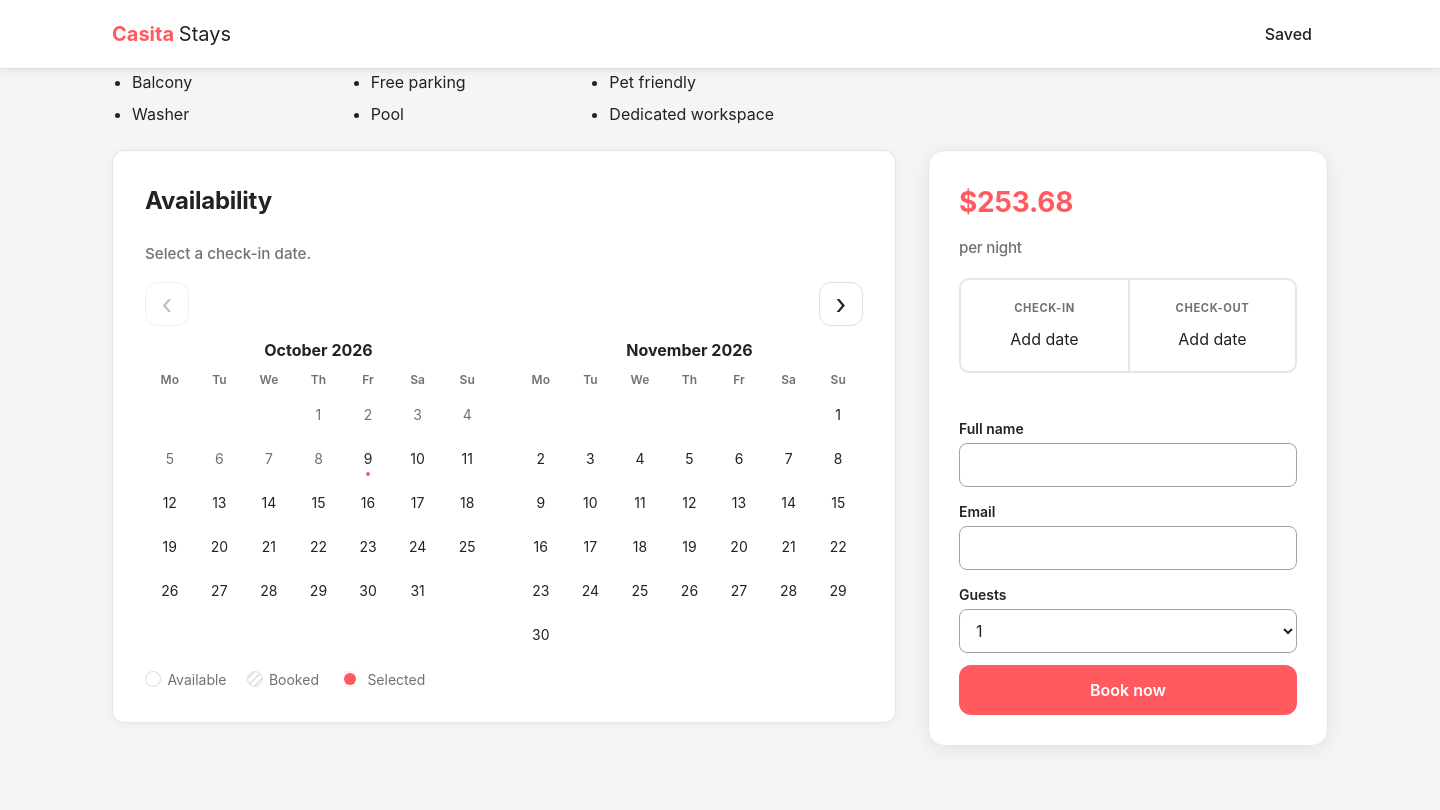
Test case: booking flow › announces form errors in a summary
This screenshot has width=1440, height=810.
(page scrolled)
Expected: the table named "October 2026" is shown, x1=145 y1=370 x2=492 y2=613
Click the button "Book now": [1128, 690] box x1=959 y1=665 x2=1297 y2=715
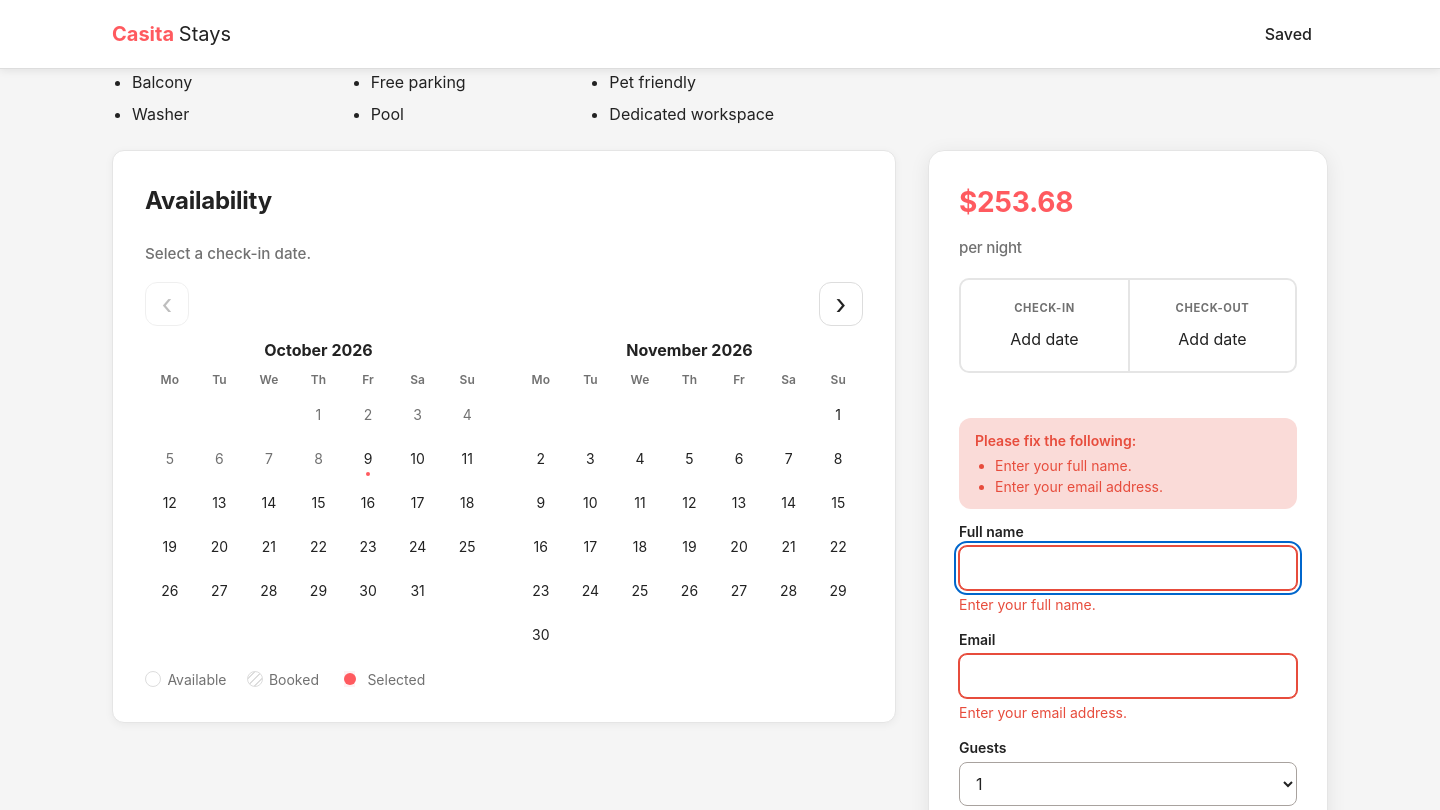
Now the list item "Enter your full name." is shown, box x1=995 y1=457 x2=1132 y2=474
Now the list item "Enter your email address." is shown, box x1=995 y1=478 x2=1163 y2=495
